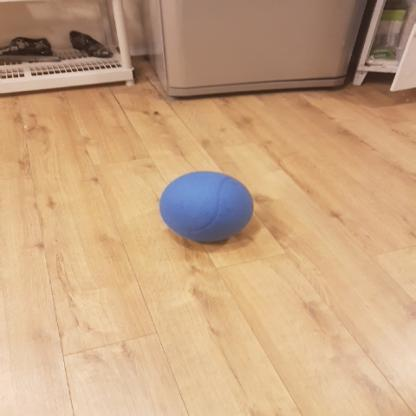ball: (154, 164, 268, 244)
